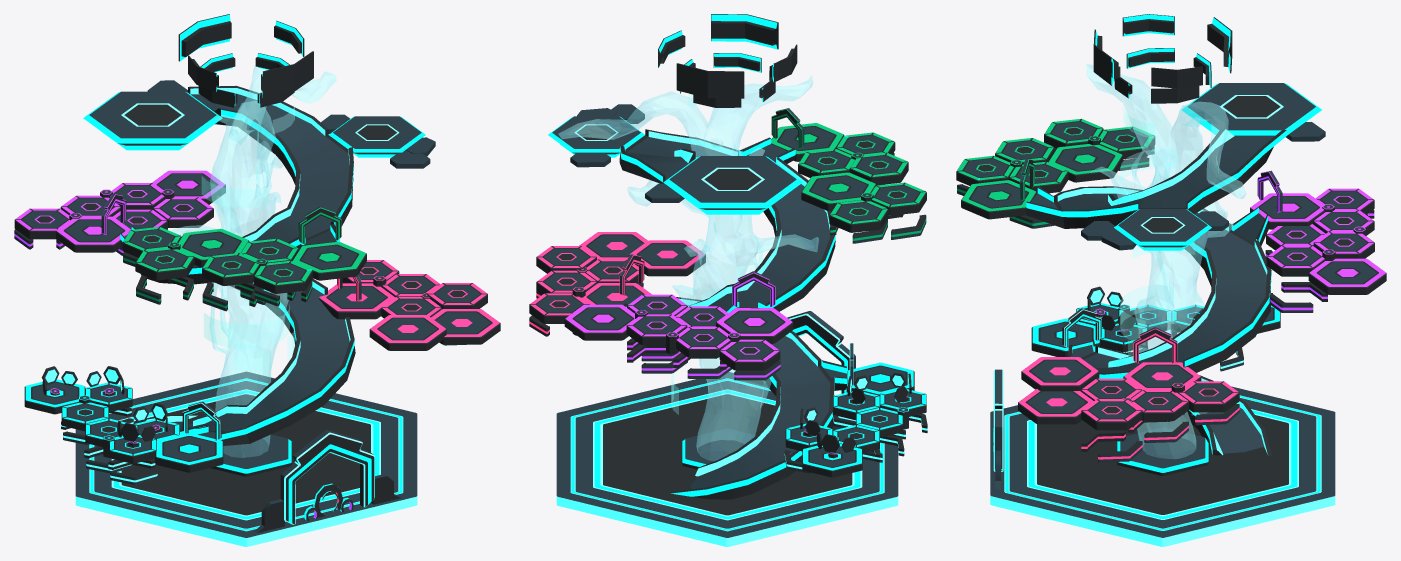
File: museum_neon_01.fbx
3 views of the same model, side by side, from view 1: azimuth 30°, elevation 25°; view 2: azimuth 150°, elevation 25°; view 3: azimuth 270°, elevation 25° (orthographic).
Visible parts, largest first — view 1: museum_building_02_01_50; view 2: museum_building_02_01_50; view 3: museum_building_02_01_50.
Part boxes in pixels (left/top/right/bottom): museum_building_02_01_50: left=14, top=14, right=500, bottom=546; museum_building_02_01_50: left=529, top=14, right=927, bottom=546; museum_building_02_01_50: left=956, top=14, right=1386, bottom=546.
Bounding box in the file's own units: 159 × 167 × 151.
